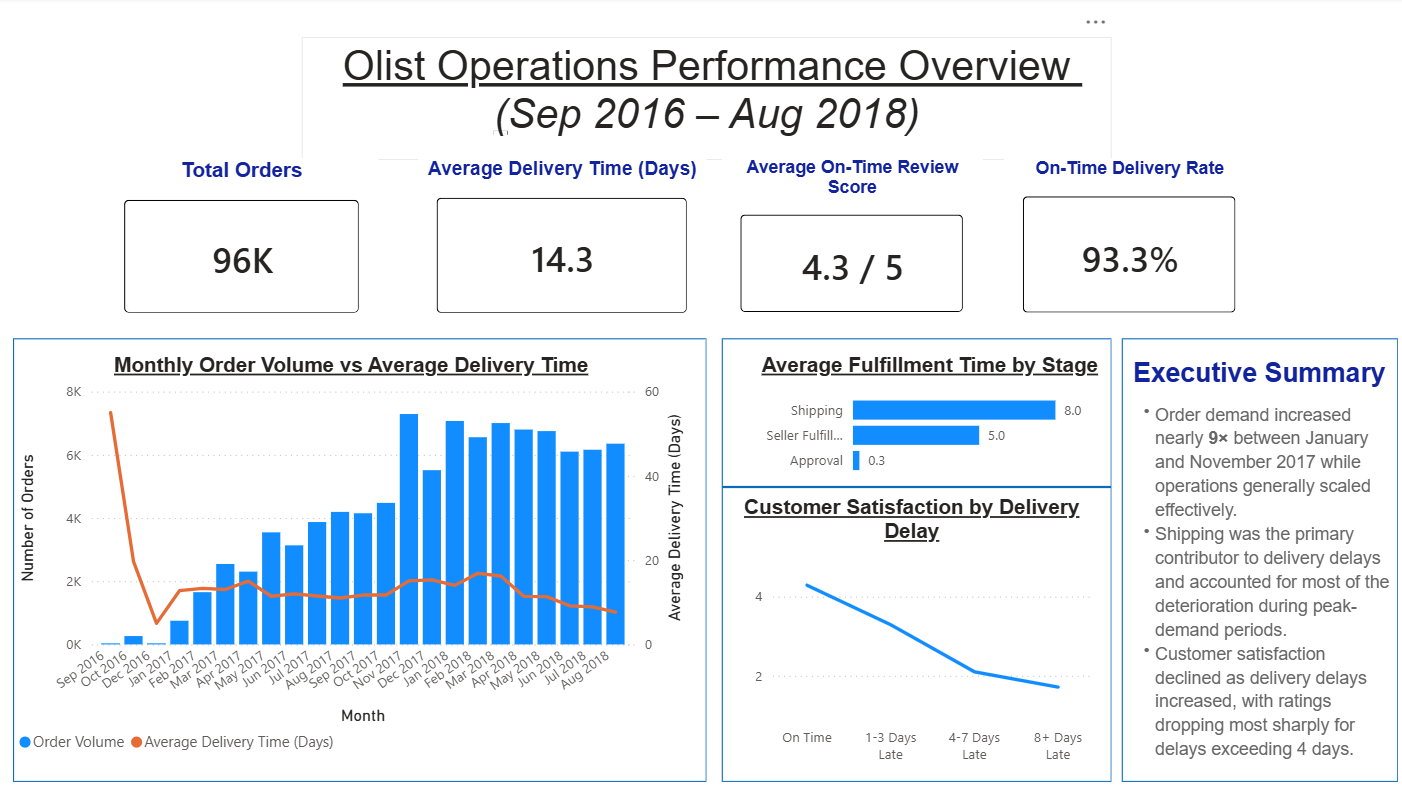

The page's visual inventory and layout, read from the dashboard file:
{"tool":"powerbi","page":{"name":"Executive Summary","canvas":[1280,720],"ordinal":0},"visuals":[{"type":"textbox","box":[274.4,36.1,731.7,110.7],"z":0},{"type":"cardVisual","title":"Total Orders","fields":{"Data":["Sum(Demand vs Performance.total_orders)"]},"box":[97.1,145.7,246.2,157],"z":1000},{"type":"cardVisual","title":"Average Delivery Time (Days)","fields":{"Data":["Avg(Demand vs Performance.avg_delivery_days)"]},"box":[379.4,144.5,260.8,158.1],"z":2000},{"type":"lineClusteredColumnComboChart","title":"Monthly Order Volume vs Average Delivery Time","fields":{"Category":["Demand vs Performance.YearMonth"],"Y2":["Avg(Demand vs Performance.avg_delivery_days)"],"Y":["Sum(Demand vs Performance.total_orders)"]},"box":[13.5,321.8,610.9,370.4],"z":3000},{"type":"barChart","title":"Average Fulfillment Time by Stage","fields":{"Category":["Fulfillment Stage.Stage"],"Y":["Fulfillment Stage.Average Stage Time"]},"box":[677.5,321.8,328.6,120.8],"z":4000},{"type":"shape","box":[13.5,308.3,626.7,400.8],"z":5000},{"type":"shape","box":[653.8,308.3,352.3,134.4],"z":6000},{"type":"textbox","box":[1016.2,360.2,247.3,339.9],"z":7000},{"type":"shape","box":[1015.1,308.3,250.7,400.8],"z":8000},{"type":"lineChart","title":"Customer Satisfaction by Delivery Delay","fields":{"Category":["Severity of Delays.delay_bucket"],"Y":["Sum(Severity of Delays.avg_review_score)"]},"box":[653.8,450.5,343.3,249.5],"z":9000},{"type":"shape","box":[653.8,442.6,352.3,266.5],"z":10000},{"type":"cardVisual","title":"Average On-Time Review Score","fields":{"Data":["Severity of Delays.Average Review Score"]},"box":[653.8,144.5,236,158.1],"z":11000},{"type":"cardVisual","title":"On-Time Delivery Rate","fields":{"Data":["On-Time vs Delayed Deliveries.On Time Deliveries %"]},"box":[909,145.7,227,157],"z":12000},{"type":"textbox","box":[1016.2,321.8,246.2,46.3],"z":13000}]}

Visuals, with their boxes in screenshot pixels (x1, y1, x2, y2), scaled from the page's 1280x720 canvas onto the 1402x787 screenshot:
textbox: x1=301 y1=39 x2=1102 y2=160
"Total Orders" cardVisual: x1=106 y1=159 x2=376 y2=331
"Average Delivery Time (Days)" cardVisual: x1=416 y1=158 x2=701 y2=331
"Monthly Order Volume vs Average Delivery Time" lineClusteredColumnComboChart: x1=15 y1=352 x2=684 y2=757
"Average Fulfillment Time by Stage" barChart: x1=742 y1=352 x2=1102 y2=484
shape: x1=15 y1=337 x2=701 y2=775
shape: x1=716 y1=337 x2=1102 y2=484
textbox: x1=1113 y1=394 x2=1384 y2=765
shape: x1=1112 y1=337 x2=1386 y2=775
"Customer Satisfaction by Delivery Delay" lineChart: x1=716 y1=492 x2=1092 y2=765
shape: x1=716 y1=484 x2=1102 y2=775
"Average On-Time Review Score" cardVisual: x1=716 y1=158 x2=975 y2=331
"On-Time Delivery Rate" cardVisual: x1=996 y1=159 x2=1244 y2=331
textbox: x1=1113 y1=352 x2=1383 y2=402
